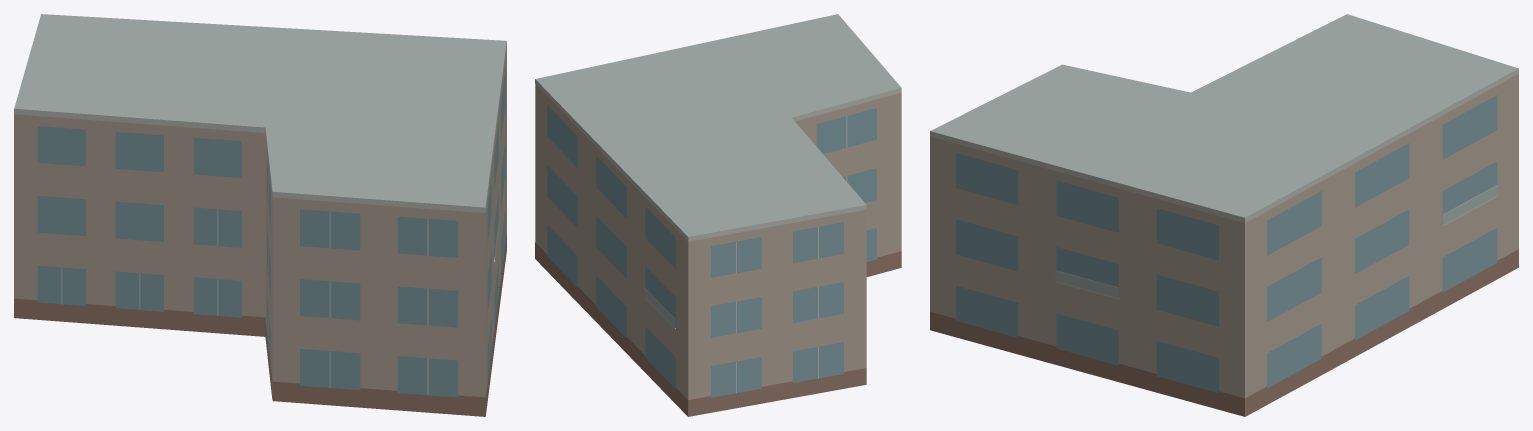
The model's file is survey-upis-32551972.glb.
3 renders of one model, left to right at view 1: azimuth 30°, elevation 25°; view 2: azimuth 150°, elevation 25°; view 3: azimuth 270°, elevation 25°, orthographic. The views are drawn at different scales.
Visible parts, largest first — view 1: survey-upis-32551972.tmp; view 2: survey-upis-32551972.tmp; view 3: survey-upis-32551972.tmp.
Part boxes in pixels (<box>): survey-upis-32551972.tmp: <box>14,14,506,416</box>; survey-upis-32551972.tmp: <box>535,14,901,416</box>; survey-upis-32551972.tmp: <box>930,14,1518,416</box>.
Size of the model in its own units: 20.1 by 9.15 by 24.53.
